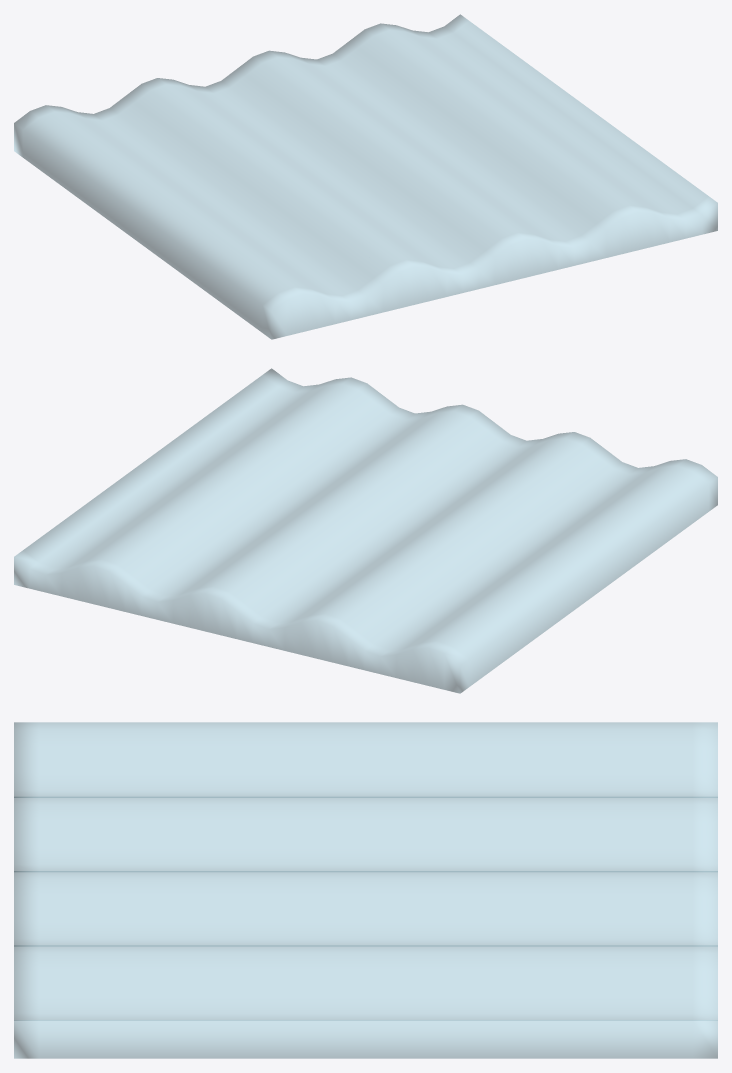
Rendered from alpine-and-arctic-biomes-bare-glacier-tile-326dc78a__21042.glb.
The picture shows the model from 3 angles, top to bottom: view 1: azimuth 30°, elevation 25°; view 2: azimuth 150°, elevation 25°; view 3: azimuth 270°, elevation 25°; orthographic projection. The views are drawn at different scales.
Parts seen in each view (by area): view 1: bare-glacier-tile; view 2: bare-glacier-tile; view 3: bare-glacier-tile.
Boxes of the visible parts, x1,y1,x2,y2 form: bare-glacier-tile: [14, 14, 717, 339]; bare-glacier-tile: [14, 368, 717, 693]; bare-glacier-tile: [14, 722, 717, 1058].
Size of the model in its own units: 4 by 0.3276 by 4.
